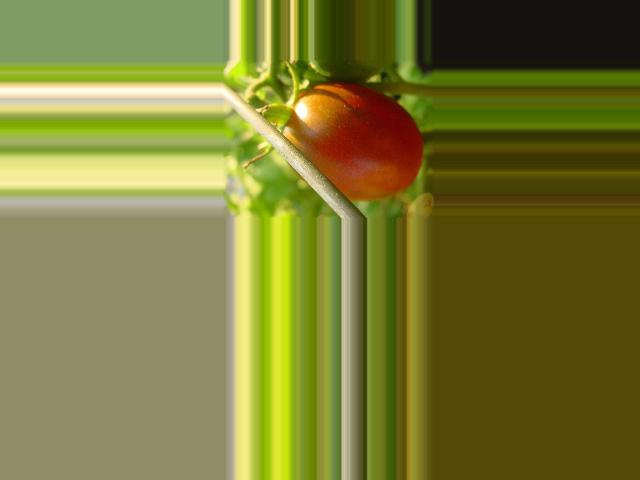tomato: (283, 84, 422, 199)
